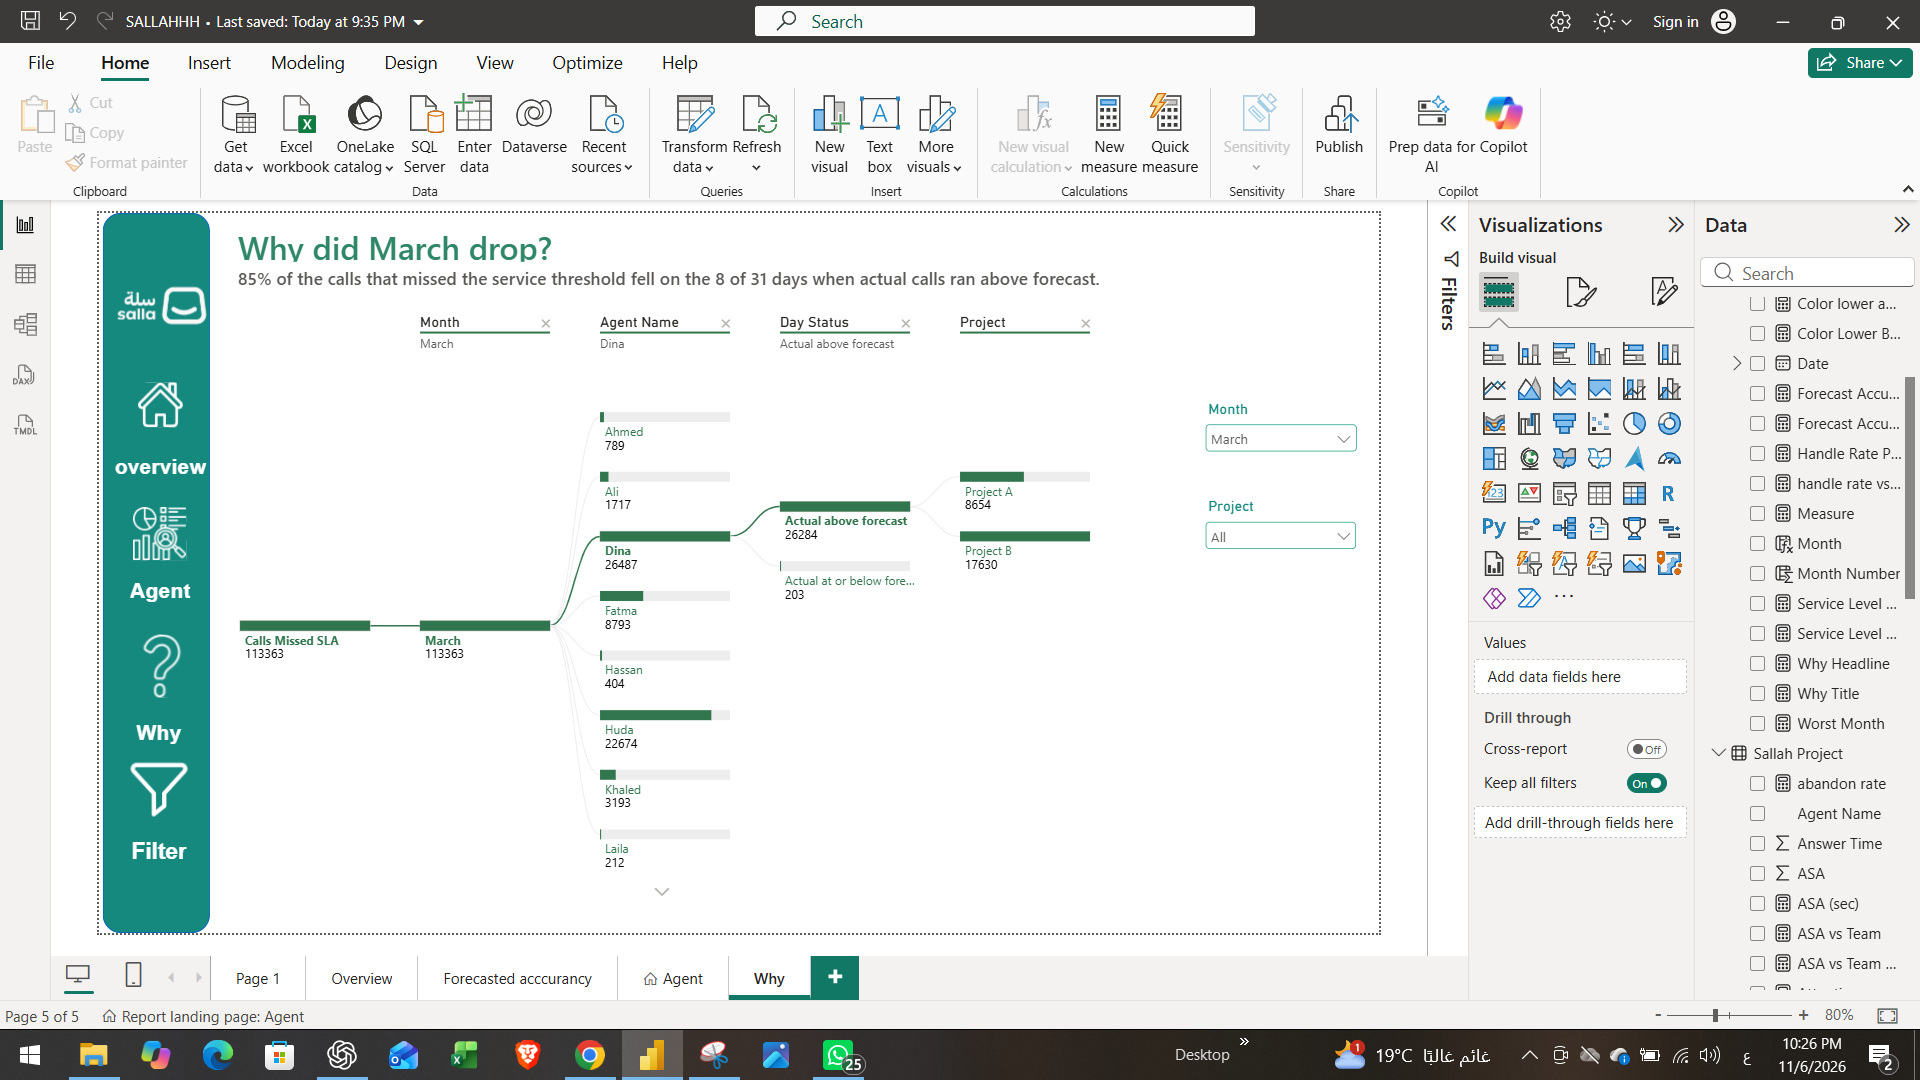

The page's visual inventory and layout, read from the dashboard file:
{"tool":"powerbi","page":{"name":"Why","canvas":[1280,720],"ordinal":4},"visuals":[{"type":"textbox","box":[111.2,7.5,628.8,86.2],"z":0,"group":"g1"},{"type":"slicer","fields":{"Values":["Calendar.Month"]},"box":[1096.2,182.5,171.3,71.2],"z":1000},{"type":"shape","box":[4.3,0,107.1,720],"z":2000},{"type":"slicer","fields":{"Values":["Sallah Project.Project"]},"box":[1096.2,280,171.1,71],"z":3000},{"type":"group","id":"g1","title":"Group 2","box":[111.2,7.5,628.8,86.2],"z":9000},{"type":"actionButton","box":[34.8,146.1,52.9,91.8],"z":11000},{"type":"actionButton","box":[27.8,417.4,90.4,71],"z":12000},{"type":"actionButton","box":[22.3,537,96,75.1],"z":13000},{"type":"actionButton","box":[30.6,289.4,65.4,61.2],"z":14000},{"type":"actionButton","box":[11.1,229.6,100.2,48.7],"z":15000},{"type":"actionButton","box":[11.1,353.4,100.2,48.7],"z":16000},{"type":"actionButton","box":[10,495.7,100,48.6],"z":17000},{"type":"actionButton","box":[0.3,22.3,132.7,92.9],"z":19000},{"type":"actionButton","box":[9.7,617.7,100.2,40.3],"z":20000},{"type":"decompositionTreeVisual","fields":{"Analyze":["Sallah Project.Calls Missed SLA"],"ExplainBy":["Calendar.Month","Sallah Project.Agent Name","Sallah Project.Day Status","Sallah Project.Project"]},"box":[111.2,83.8,973.8,636.2],"z":21000},{"type":"cardVisual","fields":{"Data":["Calendar.Why Title"]},"box":[110,0,590,66.2],"z":23000},{"type":"cardVisual","fields":{"Data":["Calendar.Why Headline"]},"box":[110,33.8,1170,60],"z":24000}]}

Visuals, with their boxes on the page's 1280x720 design canvas (x1, y1, x2, y2). These are canvas units, not pixel positions in the 1920x1080 screenshot, which may show the page scaled, cropped or inside an application window:
textbox: x1=111, y1=8, x2=740, y2=94
slicer - Calendar.Month: x1=1096, y1=182, x2=1268, y2=254
shape: x1=4, y1=0, x2=111, y2=720
slicer - Sallah Project.Project: x1=1096, y1=280, x2=1267, y2=351
"Group 2" group: x1=111, y1=8, x2=740, y2=94
actionButton: x1=35, y1=146, x2=88, y2=238
actionButton: x1=28, y1=417, x2=118, y2=488
actionButton: x1=22, y1=537, x2=118, y2=612
actionButton: x1=31, y1=289, x2=96, y2=351
actionButton: x1=11, y1=230, x2=111, y2=278
actionButton: x1=11, y1=353, x2=111, y2=402
actionButton: x1=10, y1=496, x2=110, y2=544
actionButton: x1=0, y1=22, x2=133, y2=115
actionButton: x1=10, y1=618, x2=110, y2=658
decompositionTreeVisual - Sallah Project.Calls Missed SLA x Calendar.Month: x1=111, y1=84, x2=1085, y2=720
cardVisual - Calendar.Why Title: x1=110, y1=0, x2=700, y2=66
cardVisual - Calendar.Why Headline: x1=110, y1=34, x2=1280, y2=94
